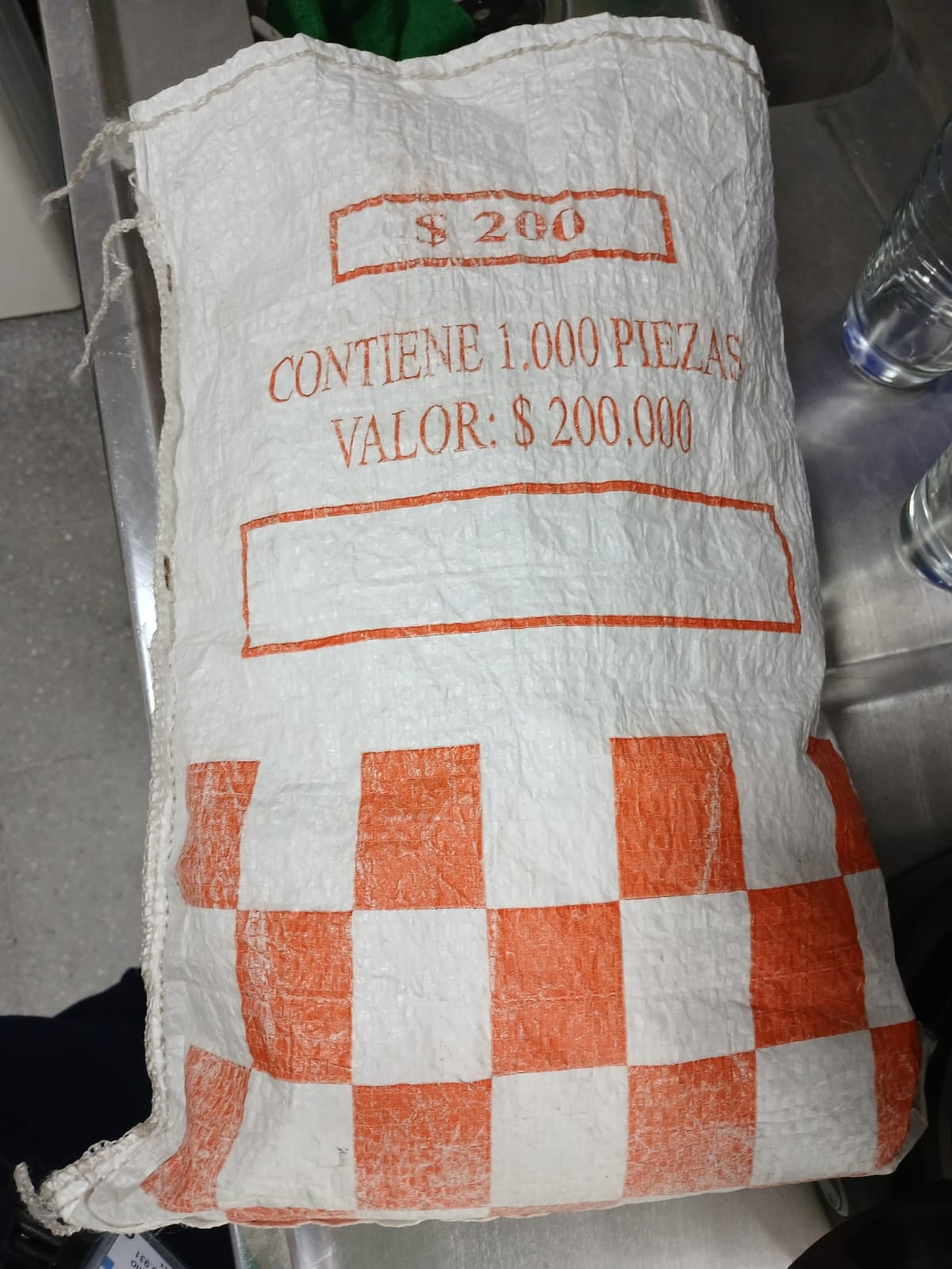Ordinario: (32, 18, 917, 1225)
